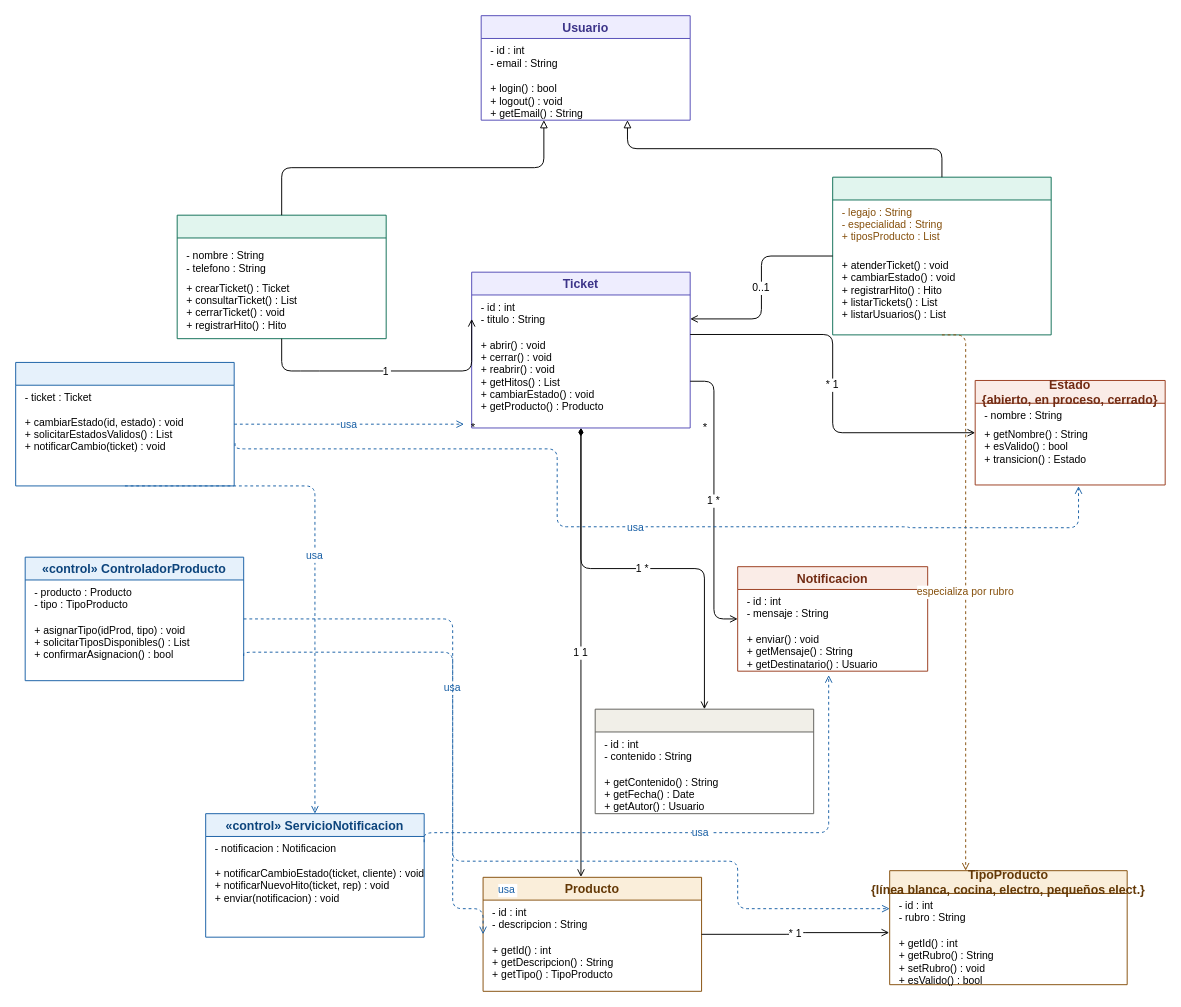
Image size: 1181x1007. Some labels were removed from this diagram. Each missing label, with the box of its shape:
Cliente: (176, 214, 386, 339)
Hito: (594, 708, 814, 814)
RepresentanteTelefonico: (832, 176, 1051, 335)
«control» ControladorTicket: (15, 361, 234, 486)
